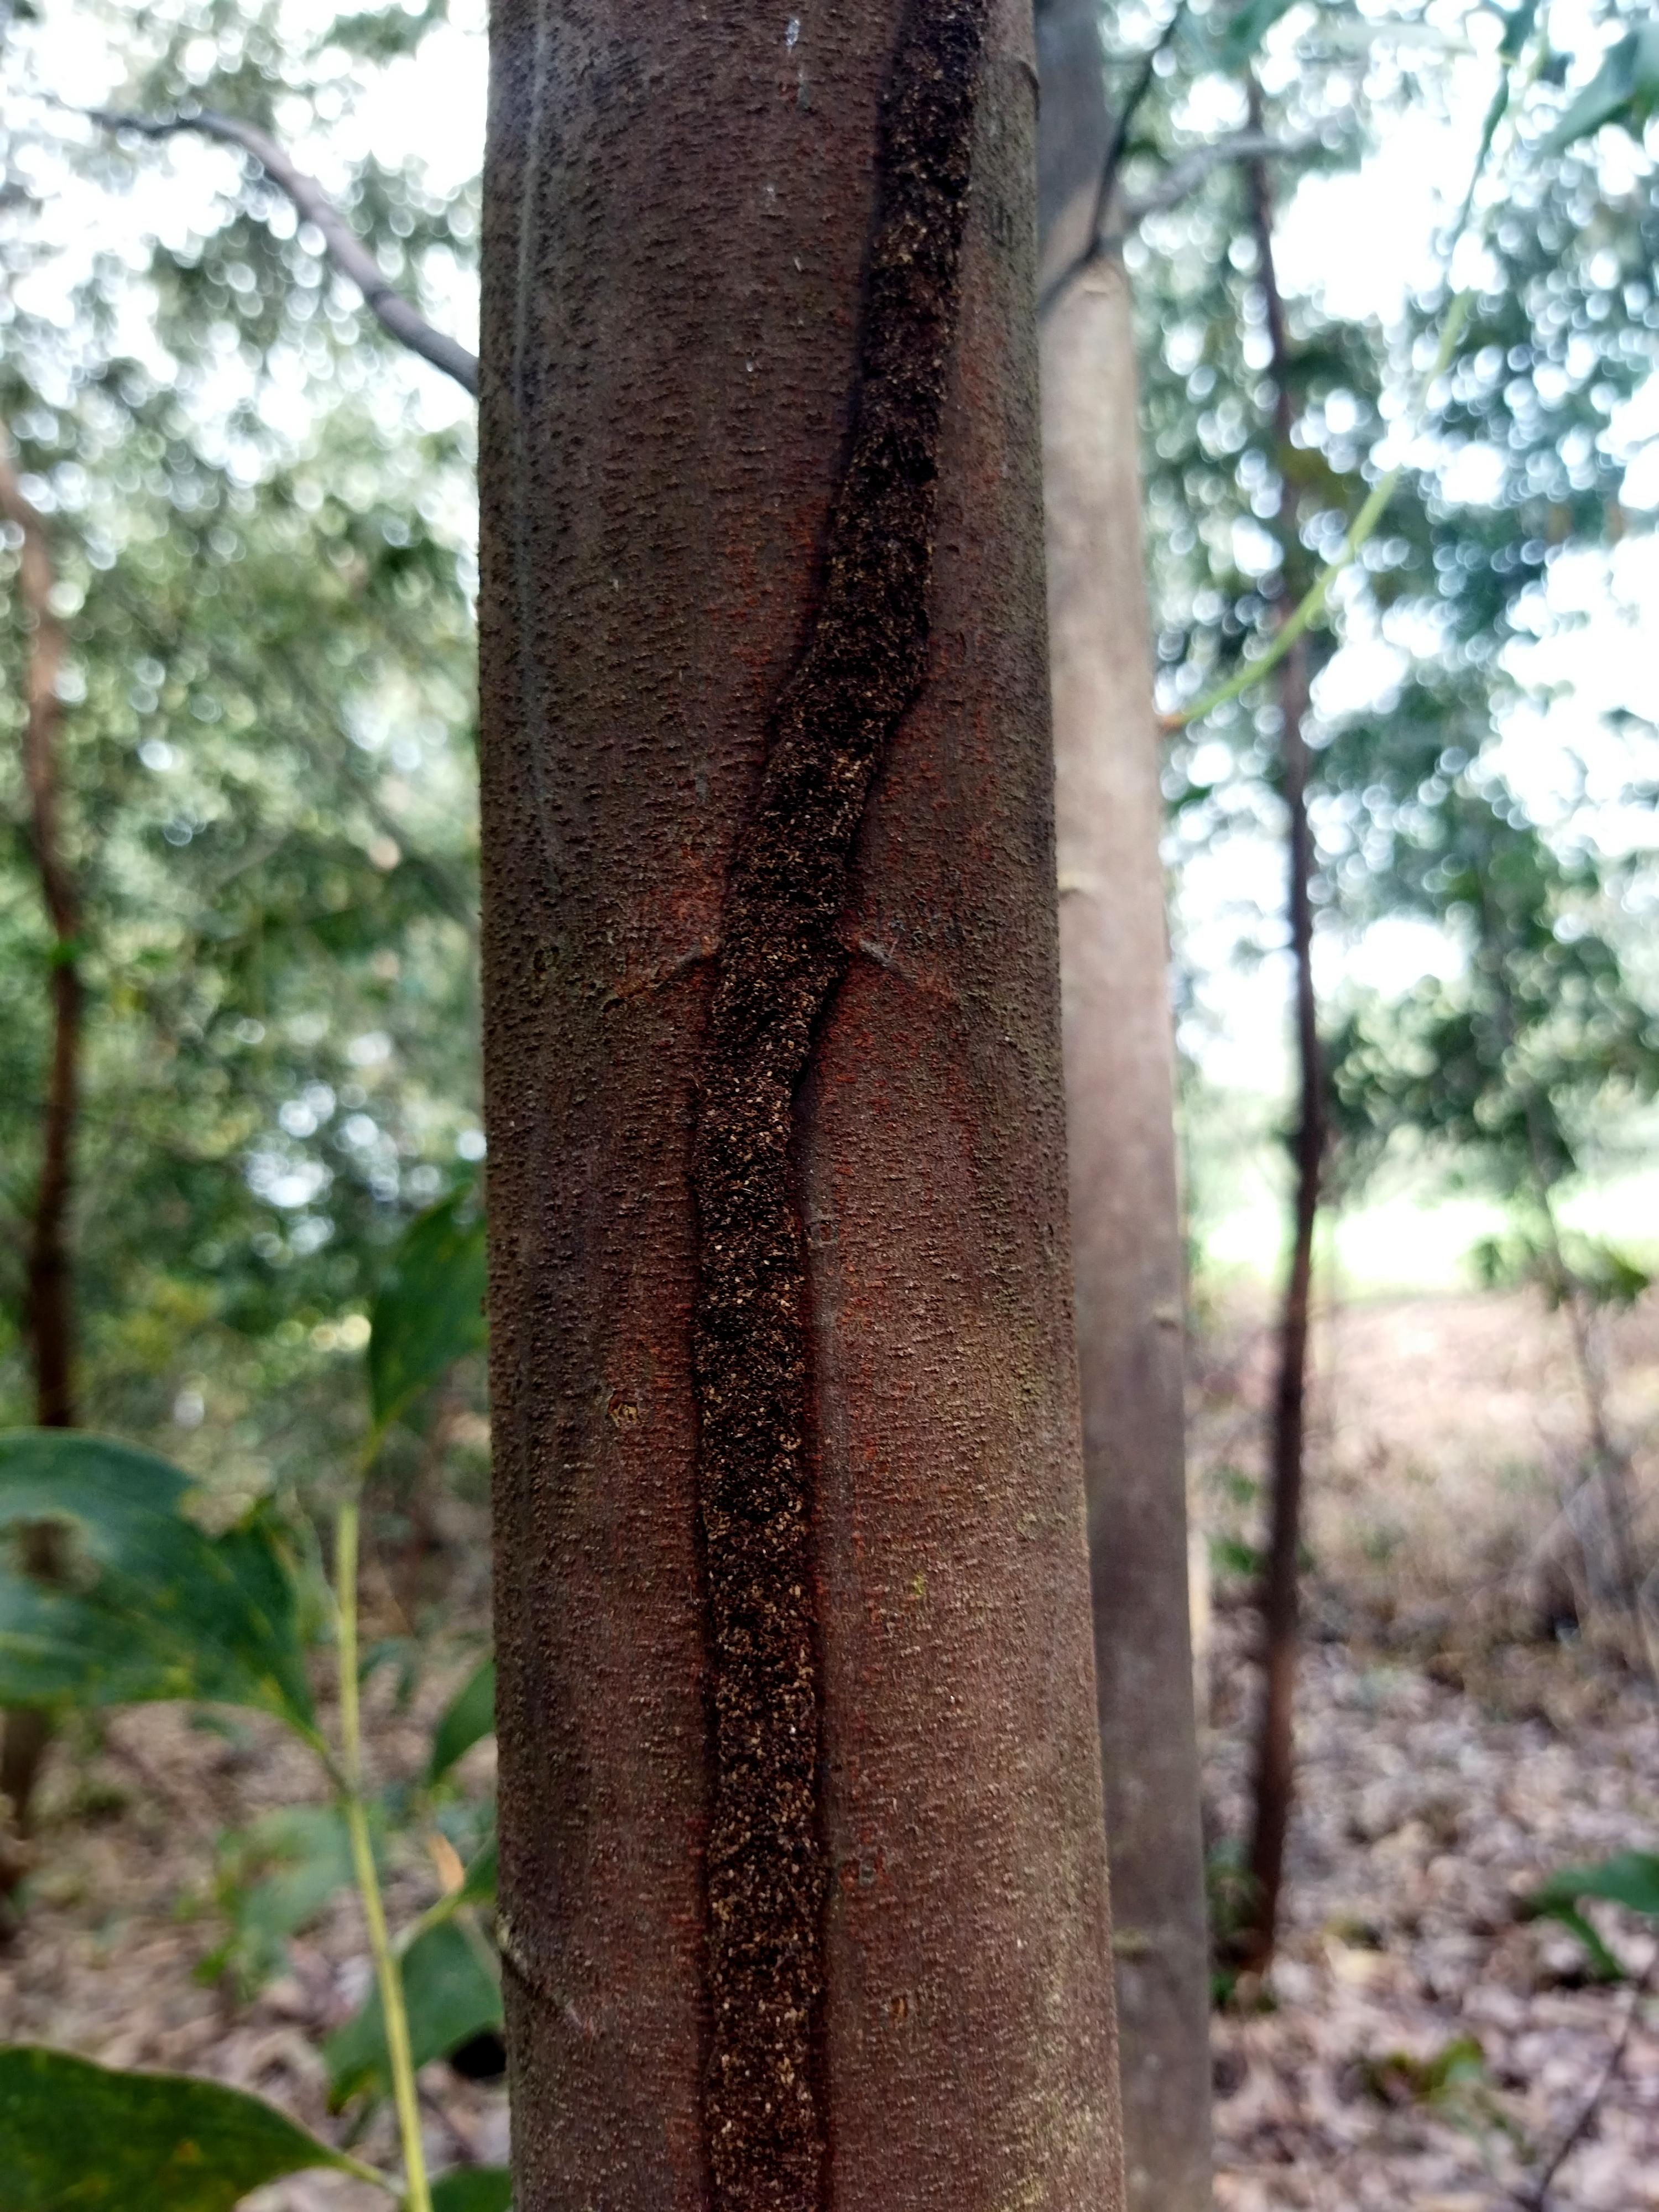Termite - Nest: (681, 7, 1023, 2212)
